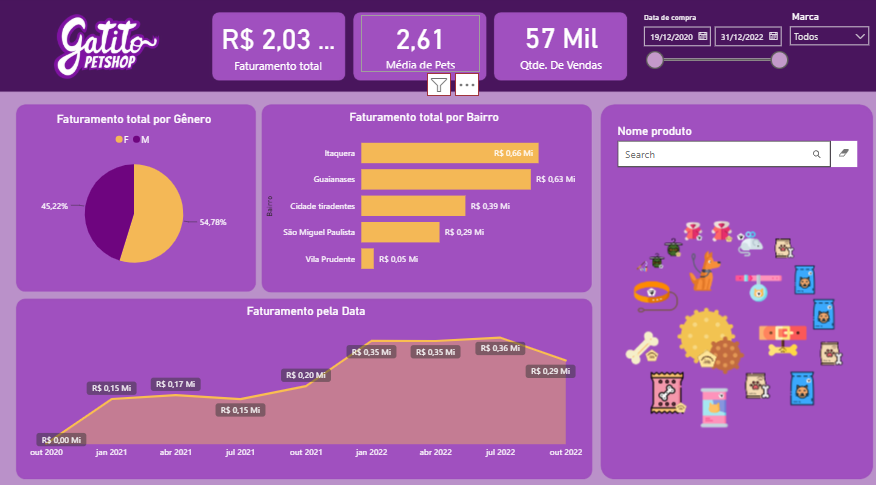

This screenshot's page, from the dashboard's own definition file:
{"tool":"powerbi","page":{"name":"Página 1","canvas":[1280,720],"ordinal":0},"visuals":[{"type":"card","fields":{"Values":["Avg(Clientes.Pets)"]},"box":[522.4,26.9,171.3,82.3],"z":0},{"type":"card","fields":{"Values":["Sum(Vendas.Quantidade)"]},"box":[724,20.2,173,95.7],"z":1000},{"type":"card","fields":{"Values":["Vendas.Faturamento total"]},"box":[317.5,21.8,173,95.7],"z":2000},{"type":"pieChart","fields":{"Category":["Clientes.Gênero"],"Y":["Vendas.Faturamento total"]},"box":[27.4,167,337,244.8],"z":3000},{"type":"clusteredBarChart","fields":{"Category":["Clientes.Bairro"],"Y":["Vendas.Faturamento total"]},"box":[380.7,163.5,467.2,249.9],"z":4000},{"type":"areaChart","title":"Faturamento pela Data","fields":{"Category":["Vendas.Data de compra.Variation.Hierarquia de datas.Ano","Vendas.Data de compra.Variation.Hierarquia de datas.Trimestre","Vendas.Data de compra.Variation.Hierarquia de datas.Mês","Vendas.Data de compra.Variation.Hierarquia de datas.Dia"],"Y":["Vendas.Faturamento total"]},"box":[40.3,443.5,806.4,231.8],"z":5000},{"type":"ImageGrid_FC5183B9_926C_45E0_B5F7_0CE9EAF1DA9B","fields":{"ImageURL":["Produtos.Url img"]},"box":[878.2,268.6,364.4,406.4],"z":6000},{"type":"textFilter25A4896A83E0487089E2B90C9AE57C8A","fields":{"field":["Produtos.Nome produto"]},"box":[887.6,184.5,355,74.7],"z":7000},{"type":"slicer","fields":{"Values":["Produtos.Marca"]},"box":[1129.8,16.1,134.1,98.3],"z":8000},{"type":"slicer","fields":{"Values":["Vendas.Data de compra"]},"box":[917.1,19.7,228.8,89.4],"z":9000}]}

Visuals, with their boxes in screenshot pixels (x1, y1, x2, y2), scaled from the page's 1280x720 canvas onto the 876x485 screenshot:
card - Avg(Clientes.Pets): pyautogui.locateOnScreen(358, 18, 475, 74)
card - Sum(Vendas.Quantidade): pyautogui.locateOnScreen(495, 14, 614, 78)
card - Vendas.Faturamento total: pyautogui.locateOnScreen(217, 15, 336, 79)
pieChart - Clientes.Gênero x Vendas.Faturamento total: pyautogui.locateOnScreen(19, 112, 249, 277)
clusteredBarChart - Clientes.Bairro x Vendas.Faturamento total: pyautogui.locateOnScreen(261, 110, 580, 278)
"Faturamento pela Data" areaChart: pyautogui.locateOnScreen(28, 299, 579, 455)
ImageGrid_FC5183B9_926C_45E0_B5F7_0CE9EAF1DA9B - Produtos.Url img: pyautogui.locateOnScreen(601, 181, 850, 455)
textFilter25A4896A83E0487089E2B90C9AE57C8A - Produtos.Nome produto: pyautogui.locateOnScreen(607, 124, 850, 175)
slicer - Produtos.Marca: pyautogui.locateOnScreen(773, 11, 865, 77)
slicer - Vendas.Data de compra: pyautogui.locateOnScreen(628, 13, 784, 73)
